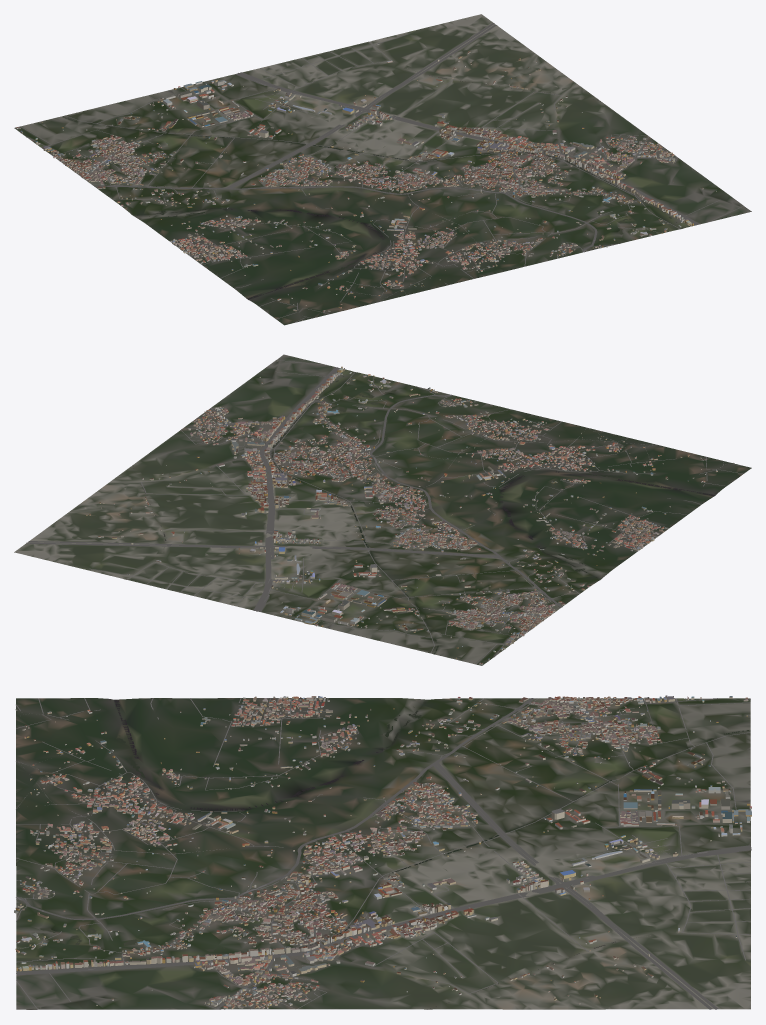
3 views of the same model, one above another, from view 1: azimuth 30°, elevation 25°; view 2: azimuth 150°, elevation 25°; view 3: azimuth 270°, elevation 25° (orthographic). The views are drawn at different scales.
Visible parts, largest first — view 1: ground, buildings, roads, water; view 2: ground, buildings, roads, water; view 3: ground, buildings, roads, water.
Boxes of the visible parts, x1=… form: ground: x1=14, y1=14, x2=751, y2=325; buildings: x1=16, y1=43, x2=716, y2=320; roads: x1=15, y1=23, x2=743, y2=322; water: x1=62, y1=47, x2=743, y2=299; ground: x1=14, y1=354, x2=751, y2=665; buildings: x1=85, y1=366, x2=734, y2=664; roads: x1=26, y1=360, x2=743, y2=665; water: x1=132, y1=359, x2=713, y2=653; ground: x1=16, y1=698, x2=750, y2=1009; buildings: x1=14, y1=695, x2=751, y2=1009; roads: x1=16, y1=698, x2=751, y2=1009; water: x1=19, y1=700, x2=748, y2=1009.
Size of the model in its own units: 2814 by 32.83 by 2816.
